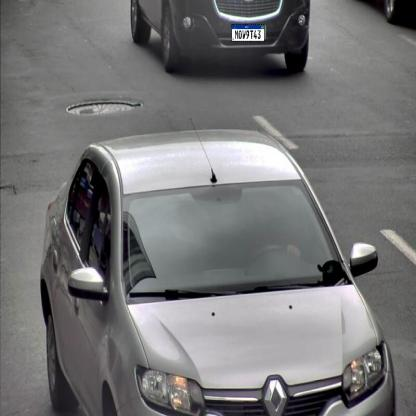PlacaM: (231, 24, 265, 42)
